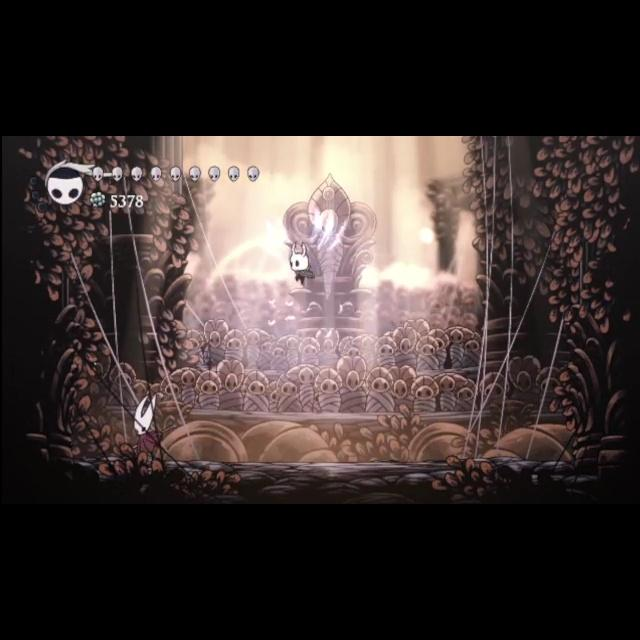Enemy: (122, 392, 176, 462)
Player: (284, 238, 320, 292)
